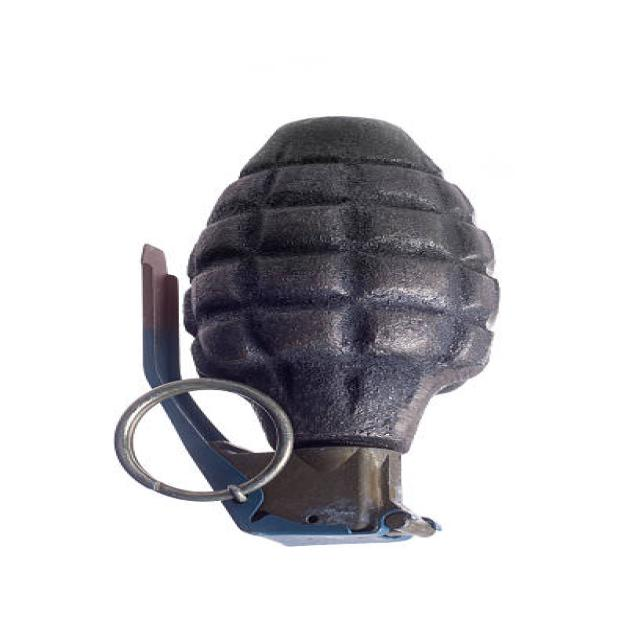grenade: (101, 112, 516, 551)
